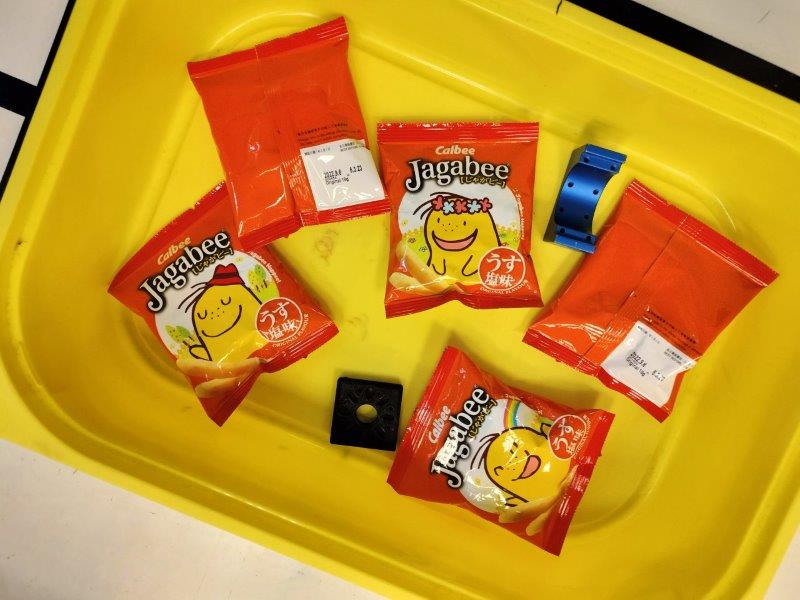Jagabee: (521, 180, 778, 422), (108, 180, 338, 427), (187, 16, 390, 254), (388, 348, 617, 557), (375, 121, 545, 319)
